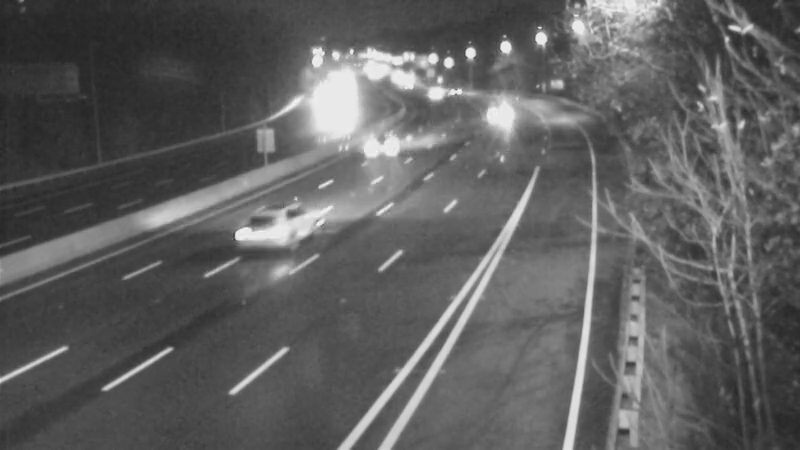vehicle: (226, 180, 306, 260), (415, 65, 465, 115), (440, 68, 490, 118), (474, 84, 524, 134), (351, 125, 401, 175)
